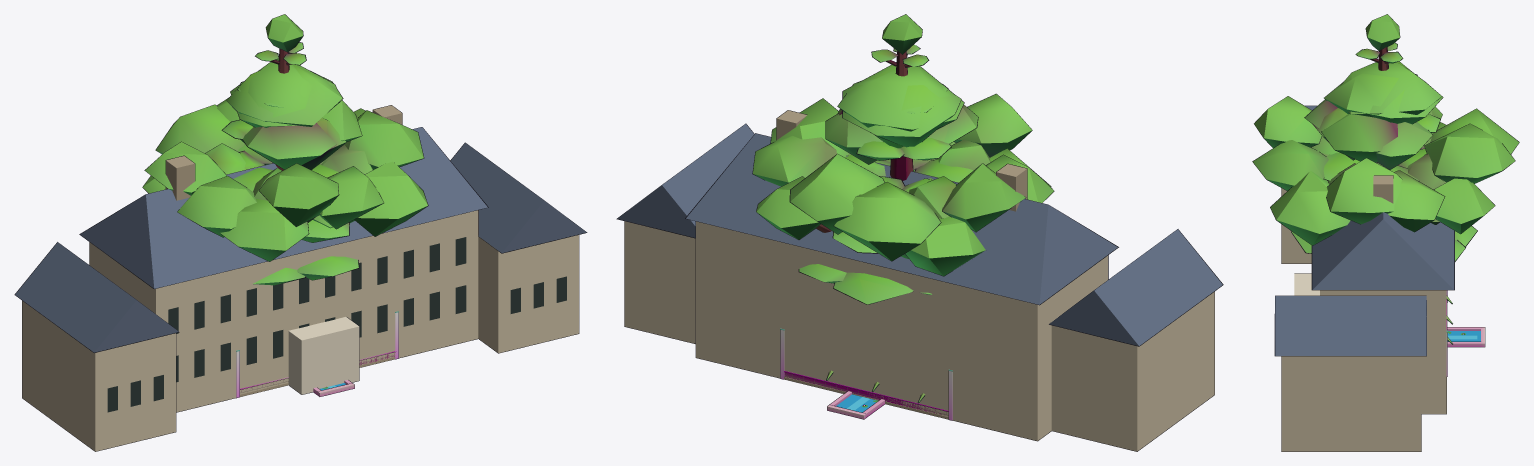
The model's file is fps-kit-mossgarden.glb.
The picture shows the model from 3 angles, left to right: view 1: azimuth 30°, elevation 25°; view 2: azimuth 150°, elevation 25°; view 3: azimuth 270°, elevation 25°; orthographic projection. The views are drawn at different scales.
Parts seen in each view (by area): view 1: KIT_MOSSGARDEN_Backdrop_Manor, KIT_MOSSGARDEN_Landmark_Oak_A, KIT_MOSSGARDEN_Landmark_Oak_B, KIT_MOSSGARDEN_Landmark_Cedar, KIT_MOSSGARDEN_Landmark_Glasshouse; view 2: KIT_MOSSGARDEN_Backdrop_Manor, KIT_MOSSGARDEN_Landmark_Oak_B, KIT_MOSSGARDEN_Landmark_Oak_A, KIT_MOSSGARDEN_Landmark_Cedar, KIT_MOSSGARDEN_Landmark_Glasshouse, KIT_MOSSGARDEN_ReflectPool; view 3: KIT_MOSSGARDEN_Backdrop_Manor, KIT_MOSSGARDEN_Landmark_Oak_B, KIT_MOSSGARDEN_Landmark_Oak_A, KIT_MOSSGARDEN_Landmark_Cedar, KIT_MOSSGARDEN_ReflectPool.
Boxes of the visible parts, <box> form: KIT_MOSSGARDEN_Backdrop_Manor: <box>14,105,587,451</box>; KIT_MOSSGARDEN_Landmark_Oak_A: <box>144,64,424,261</box>; KIT_MOSSGARDEN_Landmark_Oak_B: <box>142,59,428,237</box>; KIT_MOSSGARDEN_Landmark_Cedar: <box>221,14,359,285</box>; KIT_MOSSGARDEN_Landmark_Glasshouse: <box>236,311,398,398</box>; KIT_MOSSGARDEN_Backdrop_Manor: <box>616,110,1223,451</box>; KIT_MOSSGARDEN_Landmark_Oak_B: <box>752,66,1054,276</box>; KIT_MOSSGARDEN_Landmark_Oak_A: <box>756,64,1051,261</box>; KIT_MOSSGARDEN_Landmark_Cedar: <box>798,14,973,304</box>; KIT_MOSSGARDEN_Landmark_Glasshouse: <box>780,328,952,420</box>; KIT_MOSSGARDEN_ReflectPool: <box>827,391,884,419</box>; KIT_MOSSGARDEN_Backdrop_Manor: <box>1274,105,1454,451</box>; KIT_MOSSGARDEN_Landmark_Oak_B: <box>1254,62,1515,245</box>; KIT_MOSSGARDEN_Landmark_Oak_A: <box>1252,61,1519,234</box>; KIT_MOSSGARDEN_Landmark_Cedar: <box>1291,14,1477,261</box>; KIT_MOSSGARDEN_ReflectPool: <box>1447,327,1485,347</box>.
Bounding box in the file's own units: 42.86 × 28.49 × 21.08.
Materials: 1 (1 with a texture image).
